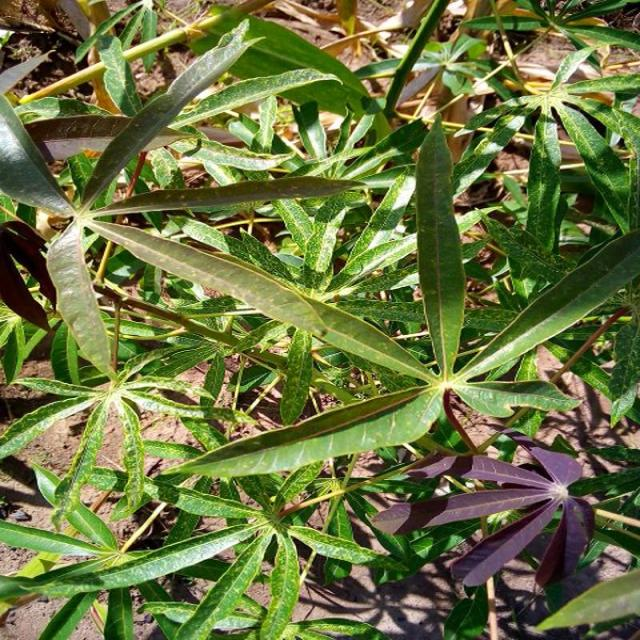cassava leaf: (2, 5, 640, 637), (415, 112, 468, 379)
